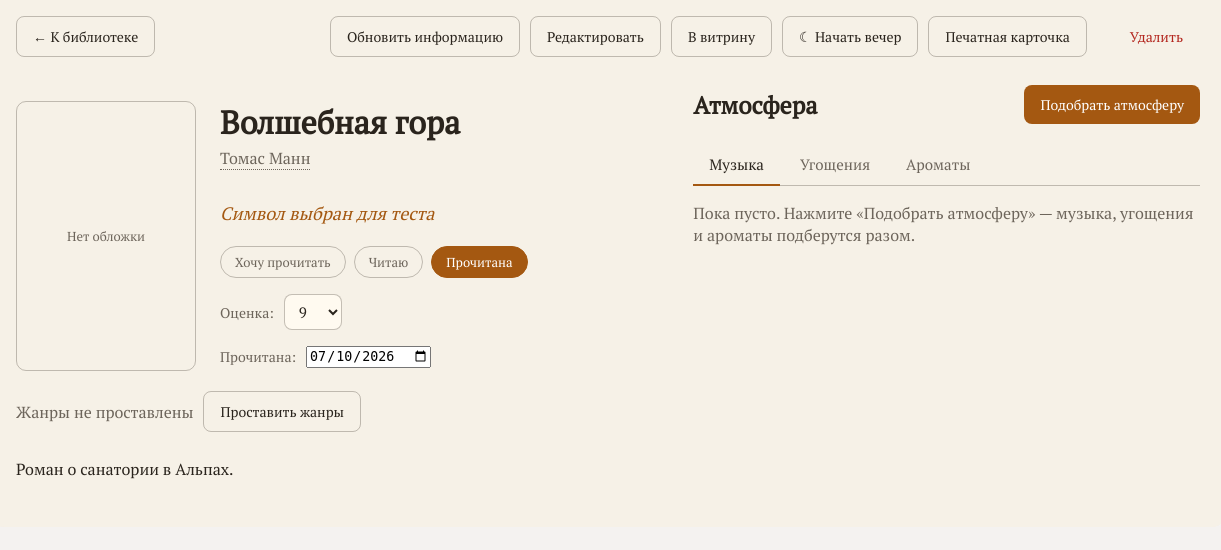
Test: подбор атмосферы наполняет все категории разом
expect the heading "Волшебная гора" is shown: met, box [220, 101, 460, 143]
expect the text "Пока пусто" is shown: met, box [693, 202, 1193, 246]
What coordinates should you click on to do the following:
click the button "Подобрать атмосферу"
I would click on:
 (1112, 104)
Its box is [1024, 85, 1200, 124].
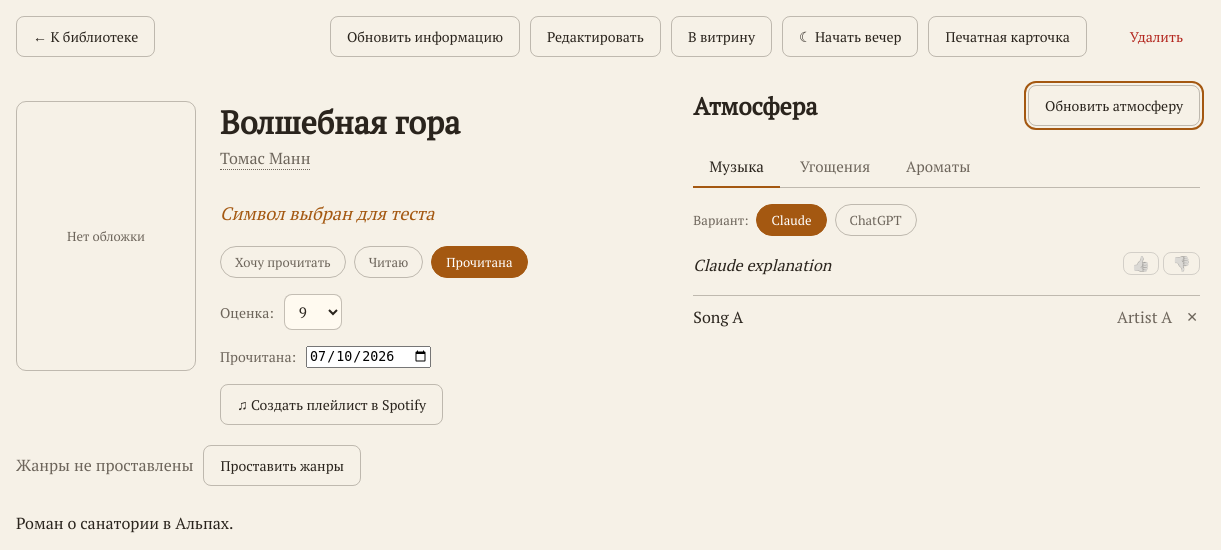
expect the text "Song A" is shown: met, box [693, 306, 743, 328]
# вкладки категорий
What coordinates should you click on to do the following:
click the button "Угощения"
I would click on:
 (835, 167)
Its box is [784, 146, 886, 188].
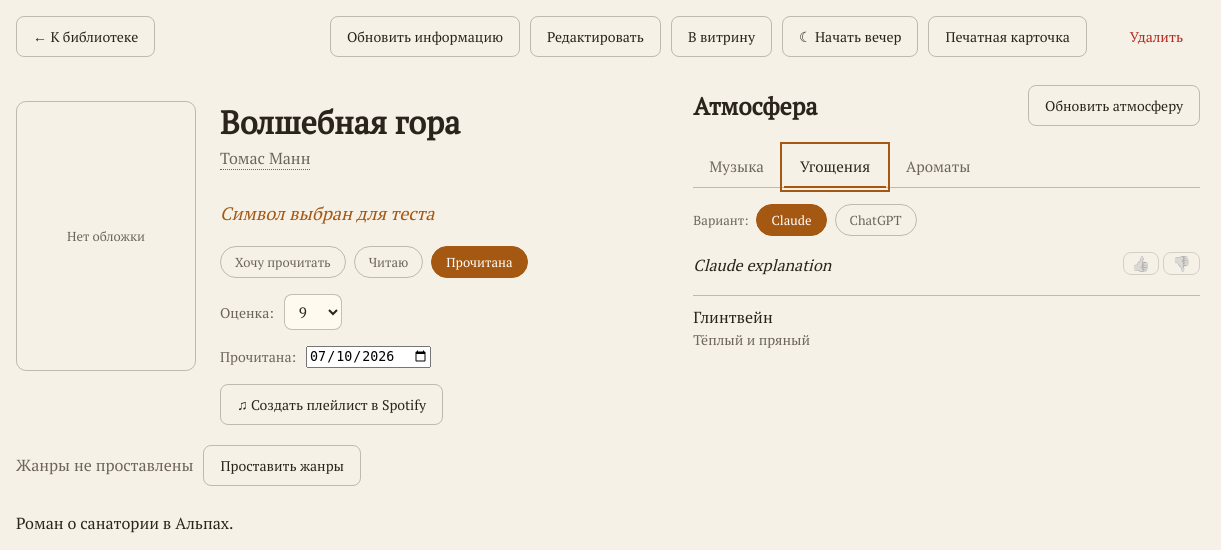
expect the text "Глинтвейн" is shown: met, box [693, 306, 773, 328]
What coordinates should you click on to do the following:
click the button "Ароматы"
I would click on:
 (938, 167)
Its box is [890, 146, 986, 188].
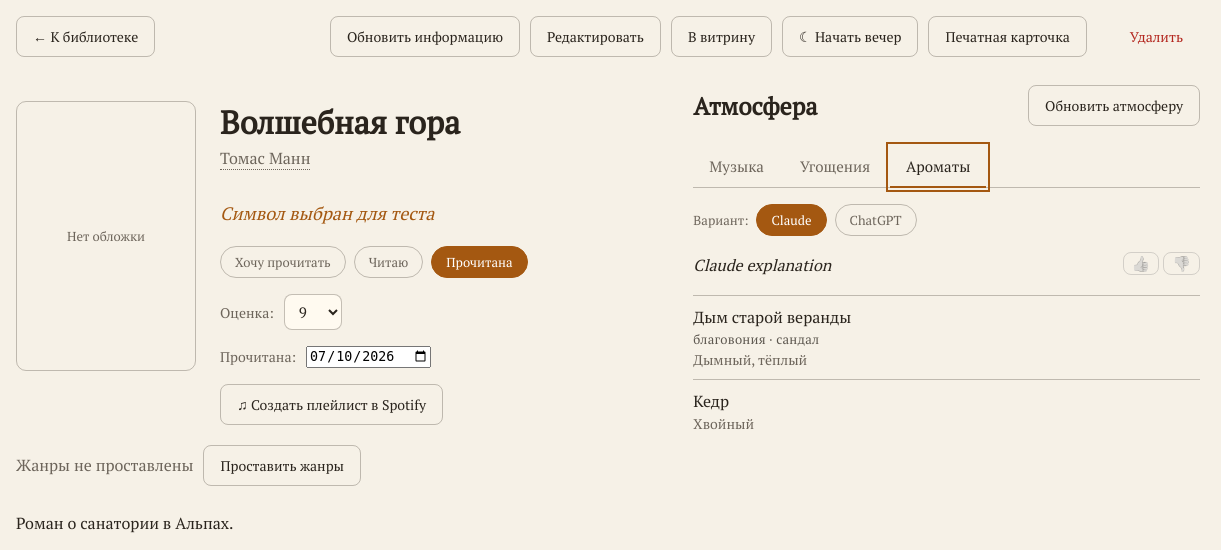
expect the text "Дым старой веранды" is shown: met, box [693, 306, 851, 328]
expect the text "благовония · сандал" is shown: met, box [693, 330, 819, 348]
expect the text "Кедр" is shown: met, box [693, 390, 729, 412]
# переключение источника внутри категории
What coordinates should you click on to do the following:
click the button "ChatGPT"
I would click on:
 (876, 220)
Its box is [834, 204, 917, 236].
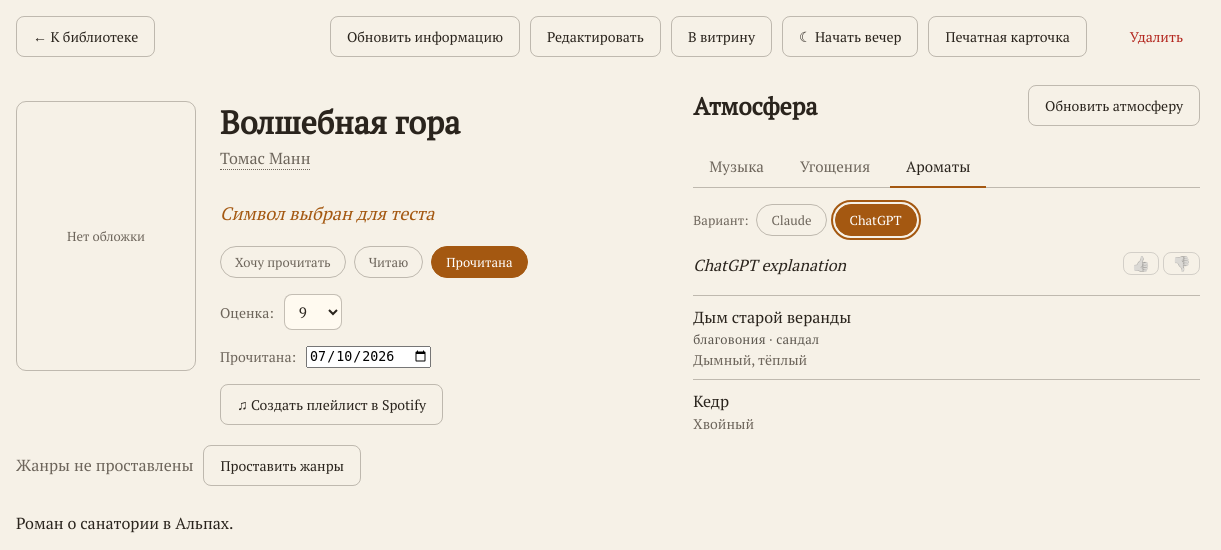
expect the button "Обновить атмосферу" is shown: met, box [1028, 85, 1200, 126]
expect the text "ChatGPT explanation" is shown: met, box [693, 254, 846, 276]
